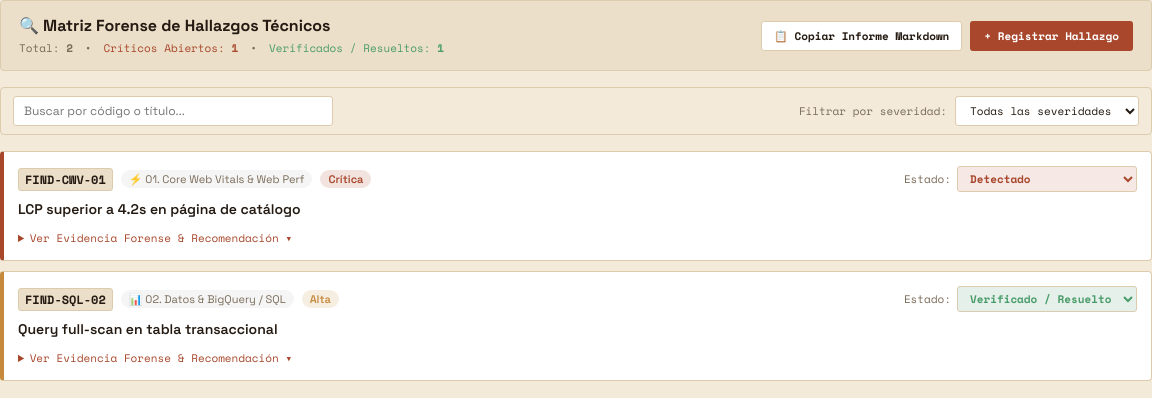
Test case: ProjectAuditFindings Component › filtra hallazgos por severidad
Select "[CRIT] Crítica" in the dropdown labelled "Filtrar por severidad:" at [1047, 111], box [955,96,1139,126]
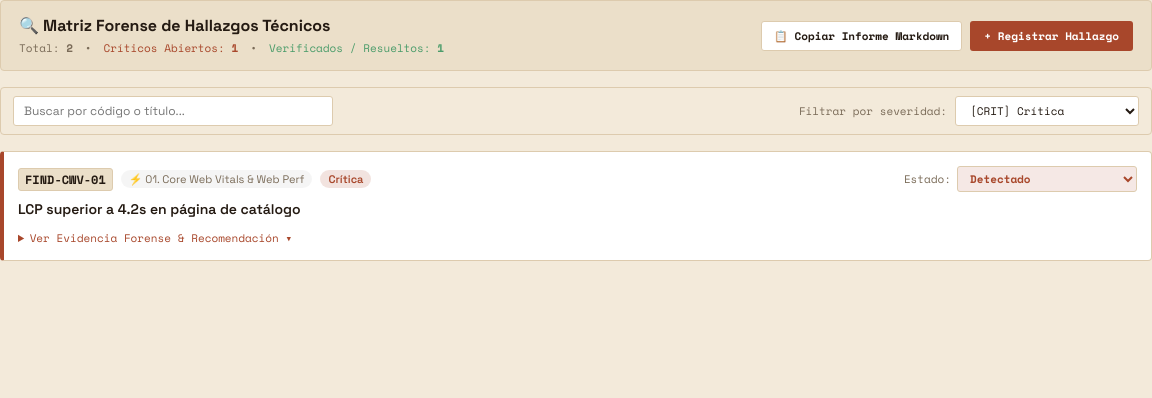
Expected: the text "FIND-CWV-01" is shown, [18,168,113,190]
Result: the text "FIND-SQL-02" is gone
